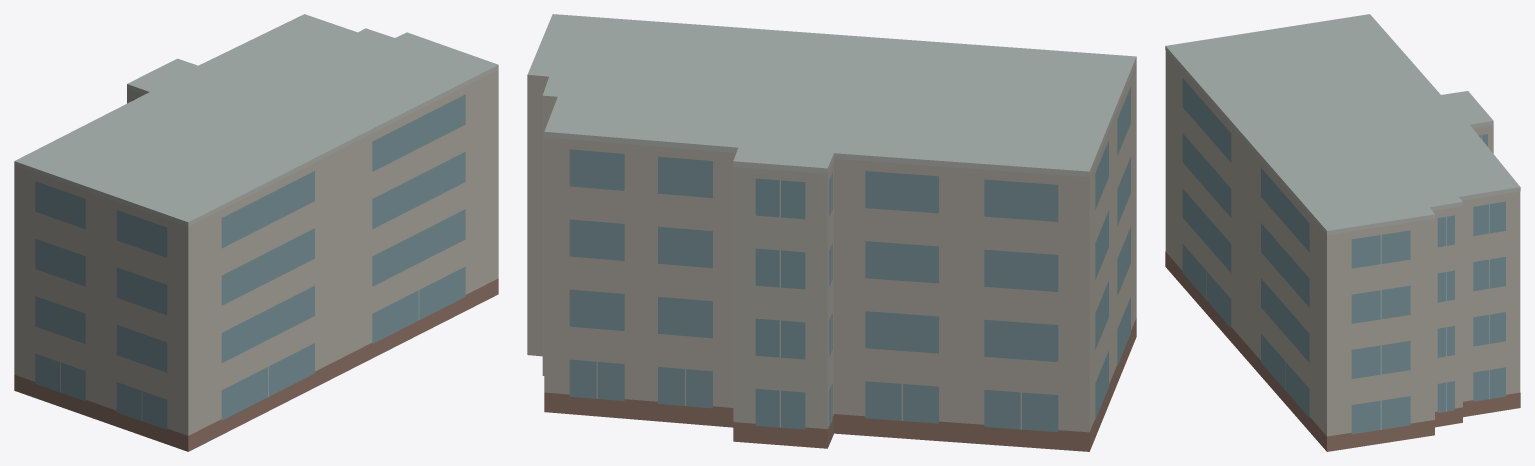
The model's file is survey-upis-32843855.glb.
The picture shows the model from 3 angles, left to right: view 1: azimuth 30°, elevation 25°; view 2: azimuth 150°, elevation 25°; view 3: azimuth 270°, elevation 25°; orthographic projection. The views are drawn at different scales.
Parts seen in each view (by area): view 1: survey-upis-32843855.tmp; view 2: survey-upis-32843855.tmp; view 3: survey-upis-32843855.tmp.
Boxes of the visible parts, left/top/right/bottom form: survey-upis-32843855.tmp: left=14, top=14, right=498, bottom=451; survey-upis-32843855.tmp: left=527, top=14, right=1136, bottom=451; survey-upis-32843855.tmp: left=1165, top=14, right=1520, bottom=451.
Bounding box in the file's own units: 25.92 × 12.3 × 17.92.
